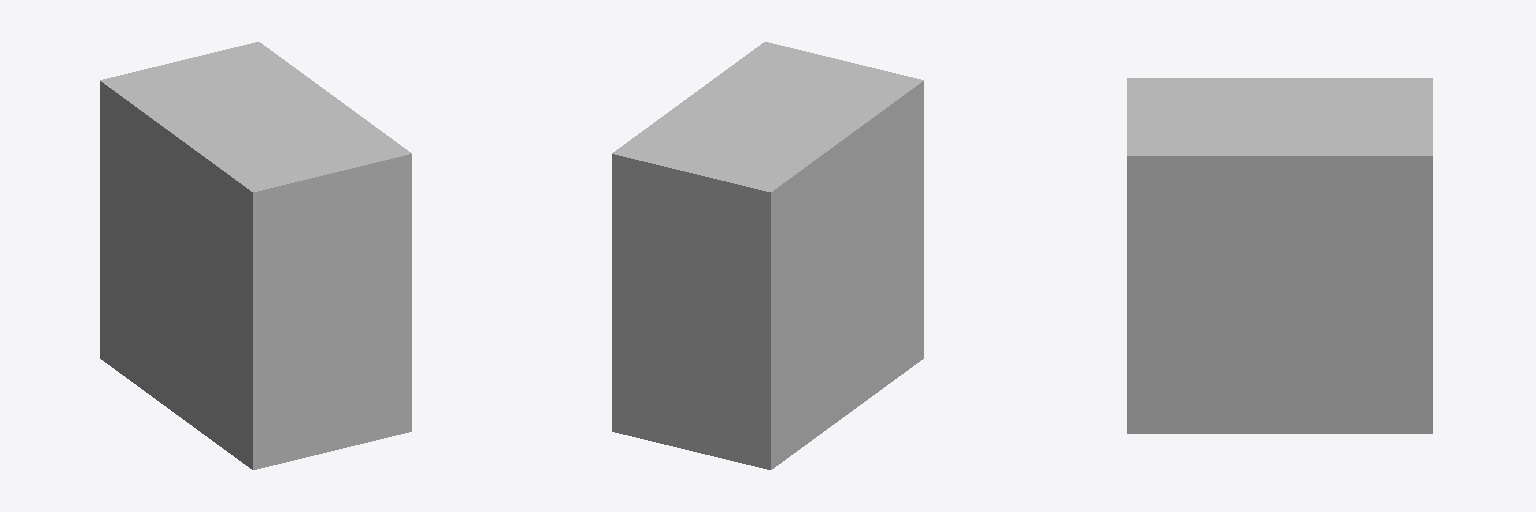
File: tronco.obj
3 views of the same model, side by side, from view 1: azimuth 30°, elevation 25°; view 2: azimuth 150°, elevation 25°; view 3: azimuth 270°, elevation 25° (orthographic).
Visible parts, largest first — view 1: object 1; view 2: object 1; view 3: object 1.
Part boxes in pixels (bbox=[...]): object 1: bbox=[100, 42, 411, 469]; object 1: bbox=[612, 42, 923, 469]; object 1: bbox=[1127, 78, 1432, 433].
Bounding box in the file's own units: 0.3 × 0.5 × 0.5.